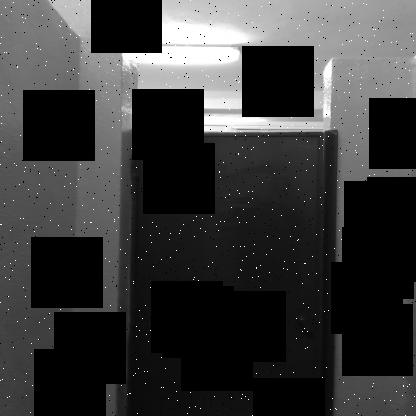Porte: (120, 128, 337, 416)
